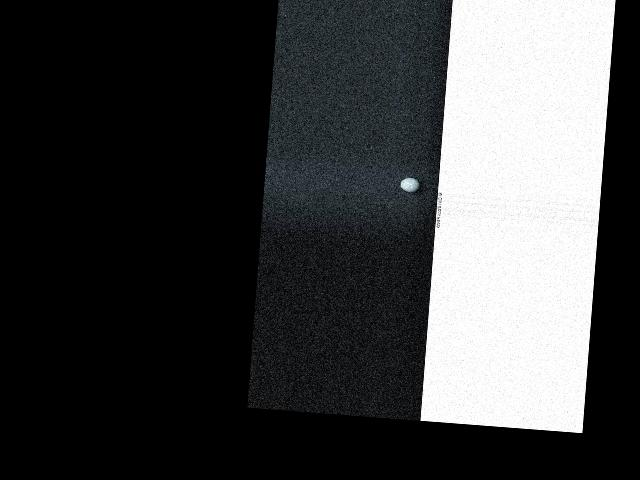egg: (400, 176, 420, 193)
